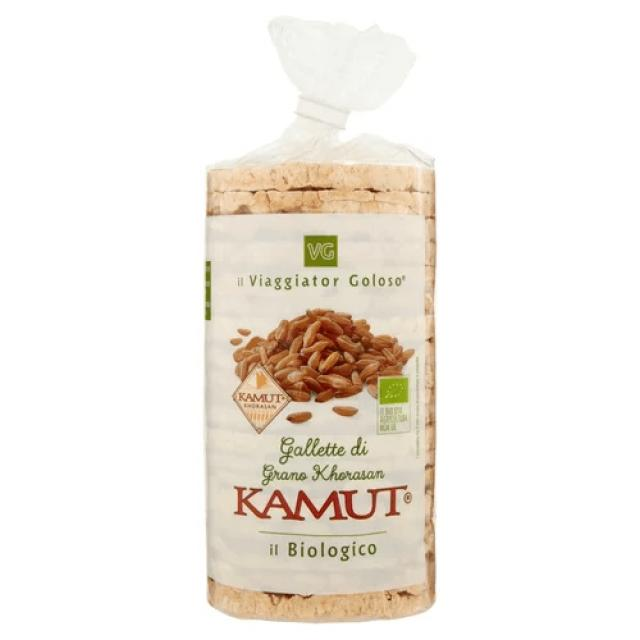bread: (200, 15, 439, 626)
